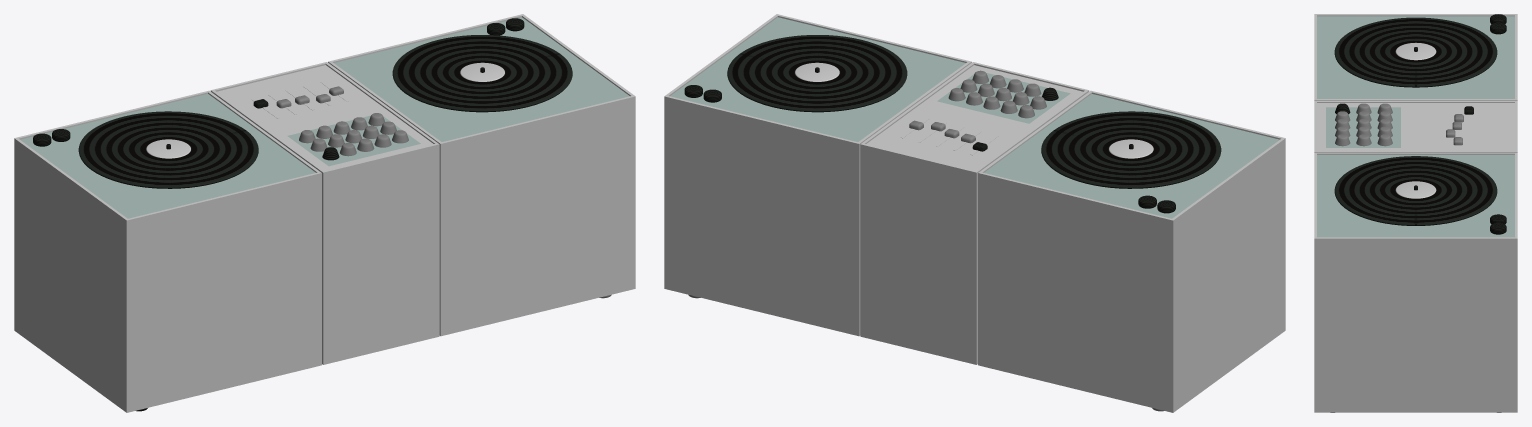
Rendered from DJspot.fbx.
3 renders of one model, left to right at view 1: azimuth 30°, elevation 25°; view 2: azimuth 150°, elevation 25°; view 3: azimuth 270°, elevation 25°, orthographic. The views are drawn at different scales.
Parts seen in each view (by area): view 1: DJspot; view 2: DJspot; view 3: DJspot.
Part boxes in pixels (x1,y1,x2,y2): DJspot: [14, 14, 635, 412]; DJspot: [664, 14, 1285, 412]; DJspot: [1314, 14, 1517, 412].
Bounding box in the file's own units: 205 × 81.48 × 78.63.
